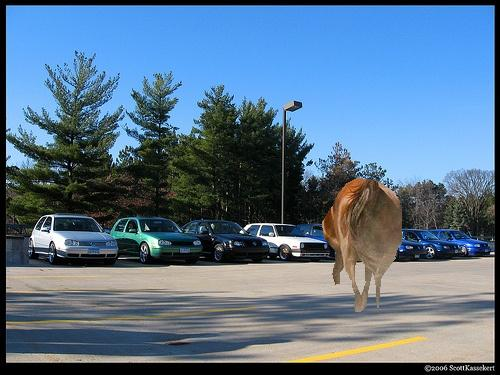tampered: (323, 179, 402, 312)
